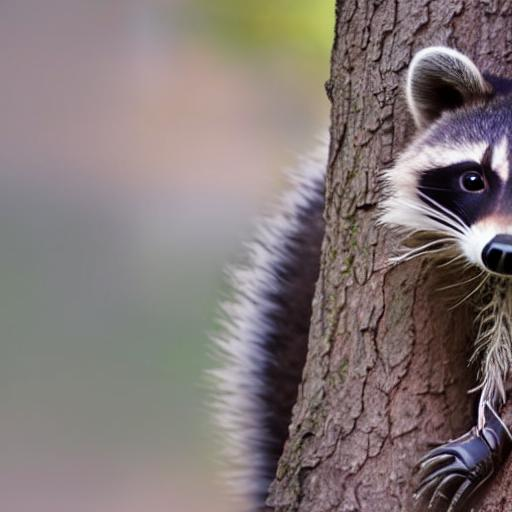raccoon: (221, 39, 512, 399)
